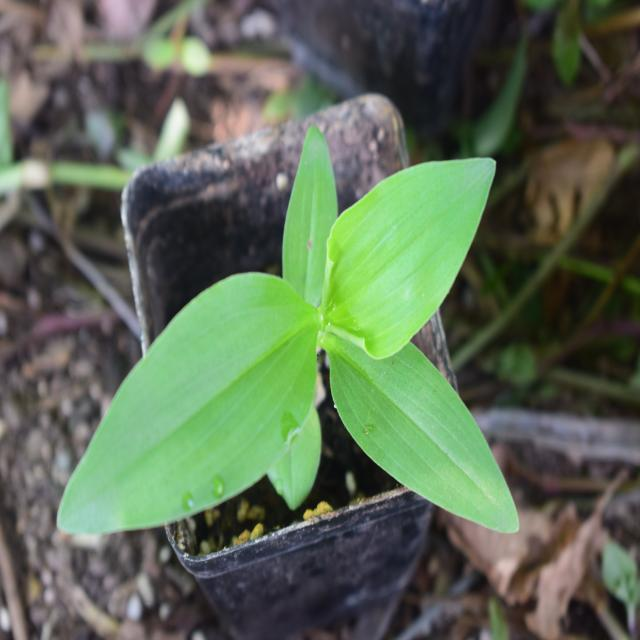Common Dayflower: (41, 141, 536, 546)
